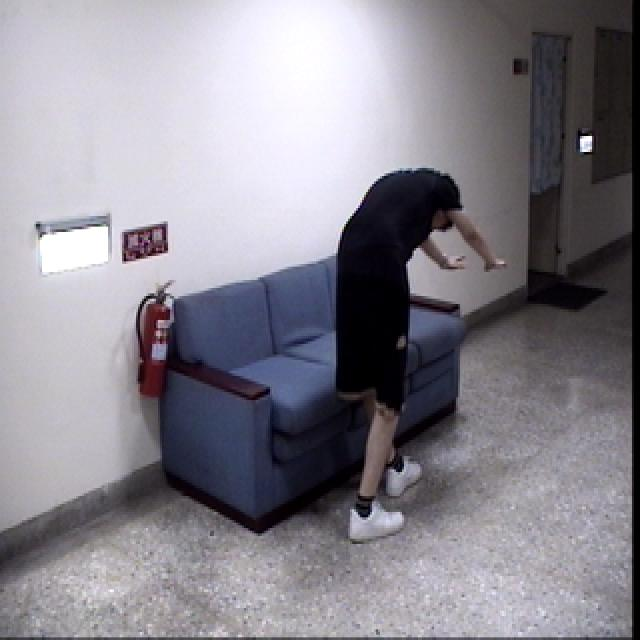bend: (330, 155, 505, 543)
